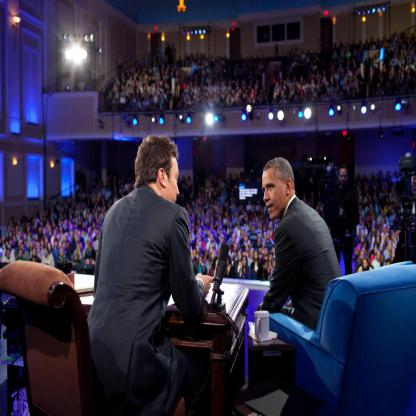face: (263, 171, 284, 218), (167, 155, 181, 208), (340, 168, 348, 187), (377, 252, 382, 260), (238, 253, 243, 261), (243, 258, 247, 267), (364, 260, 368, 268), (250, 252, 254, 259), (263, 228, 267, 234), (33, 250, 37, 256), (49, 243, 52, 251), (61, 249, 64, 257), (381, 255, 384, 263), (378, 236, 381, 244), (393, 249, 396, 257), (255, 252, 258, 260), (266, 248, 269, 256), (246, 246, 250, 252), (194, 250, 197, 258), (259, 223, 262, 230), (45, 249, 48, 256), (8, 251, 11, 258), (63, 243, 66, 250), (46, 238, 49, 245), (25, 234, 28, 241), (76, 235, 79, 242), (375, 247, 378, 254), (390, 244, 393, 251), (388, 237, 391, 244), (392, 233, 395, 240), (200, 257, 203, 264), (197, 247, 200, 254), (245, 235, 248, 242), (211, 224, 215, 229), (201, 222, 205, 227), (253, 226, 256, 232), (211, 235, 214, 241), (56, 241, 59, 247), (20, 252, 23, 258), (22, 245, 25, 251), (5, 226, 8, 232), (17, 226, 20, 232), (36, 235, 39, 241), (14, 236, 17, 242), (71, 225, 74, 231), (88, 209, 91, 215), (78, 232, 81, 238), (65, 221, 68, 227), (374, 227, 377, 233), (212, 253, 215, 259), (222, 238, 225, 243), (213, 244, 216, 249), (256, 217, 259, 222), (10, 232, 13, 237), (3, 237, 6, 242), (18, 220, 21, 225), (68, 242, 71, 247), (54, 231, 57, 236), (44, 230, 47, 235), (33, 218, 36, 223), (41, 222, 44, 227), (19, 232, 22, 237), (87, 244, 90, 249), (70, 208, 73, 213), (89, 218, 92, 223), (83, 224, 86, 229), (79, 220, 82, 225), (84, 231, 87, 236), (385, 227, 388, 232), (362, 238, 365, 243), (368, 203, 371, 208), (200, 242, 202, 248), (232, 200, 235, 204), (215, 201, 218, 205), (36, 207, 38, 213), (60, 214, 63, 218), (10, 220, 13, 224), (31, 242, 34, 246), (269, 233, 271, 239), (243, 229, 245, 235), (234, 236, 236, 241), (228, 220, 230, 225), (236, 212, 238, 217), (217, 214, 219, 219), (210, 208, 212, 213), (191, 234, 193, 239), (194, 215, 196, 220), (238, 220, 240, 225), (40, 228, 42, 233), (360, 205, 362, 210), (259, 238, 261, 243), (226, 213, 228, 217), (212, 217, 214, 221), (220, 217, 222, 221), (198, 220, 200, 224), (61, 228, 63, 232), (249, 201, 251, 204), (24, 214, 26, 217), (253, 206, 254, 209)
